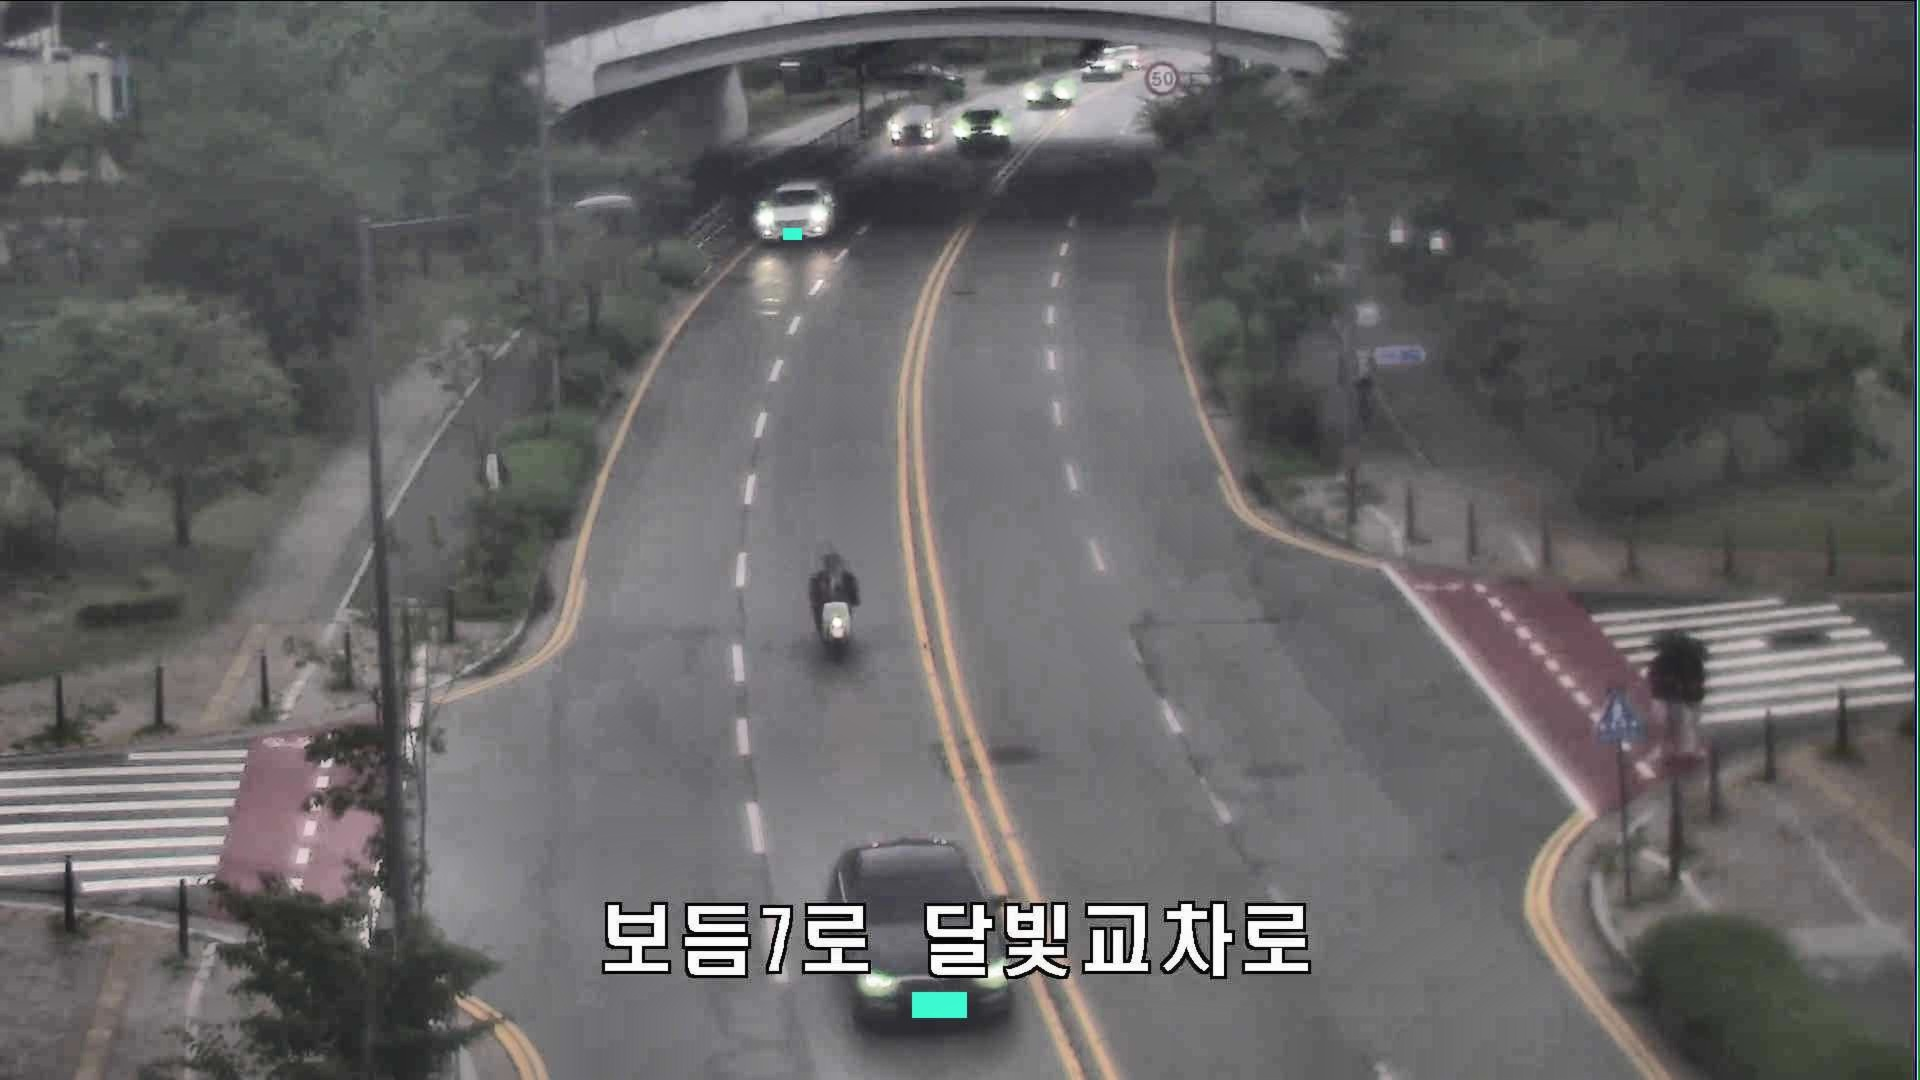um_crosswalk: (1672, 637, 1713, 758), (1643, 636, 1677, 770)
